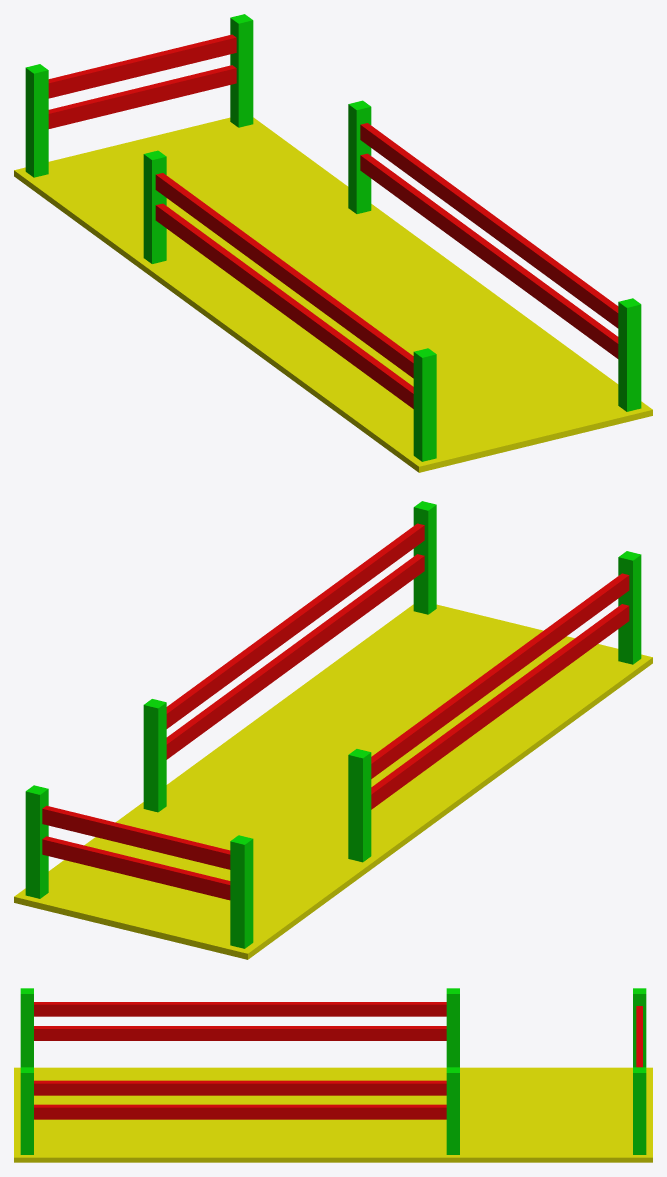
The model's file is WalkwayD_SM.fbx.
3 views of the same model, one above another, from view 1: azimuth 30°, elevation 25°; view 2: azimuth 150°, elevation 25°; view 3: azimuth 270°, elevation 25° (orthographic). The views are drawn at different scales.
Parts seen in each view (by area): view 1: polySurface20; view 2: polySurface20; view 3: polySurface20.
Boxes of the visible parts, box(x1,y1,x2,y2) form: polySurface20: box(14, 14, 652, 472); polySurface20: box(14, 501, 652, 959); polySurface20: box(14, 988, 652, 1162).
Size of the model in its own units: 8 by 3.6 by 24.
